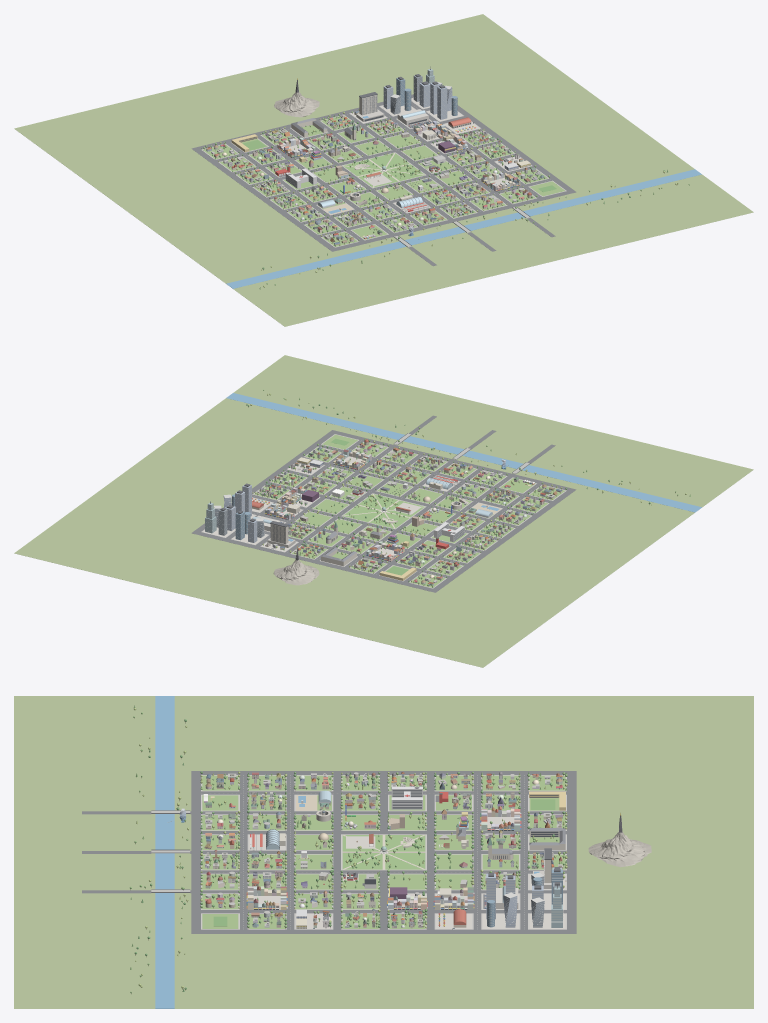
File: daemon_city.glb
The picture shows the model from 3 angles, top to bottom: view 1: azimuth 30°, elevation 25°; view 2: azimuth 150°, elevation 25°; view 3: azimuth 270°, elevation 25°; orthographic projection. The views are drawn at different scales.
Visible parts, largest first — view 1: Meadow, Blocks, Streets, Public & Commercial, River, Central Park, openings, canopy2, canopy3, canopy1, spandrel, Zarathustra Mountain; view 2: Meadow, Blocks, Streets, Public & Commercial, River, Central Park, canopy2, canopy3, canopy1, openings, Zarathustra Mountain, spandrel; view 3: Meadow, Blocks, Streets, Public & Commercial, River, Central Park, canopy2, canopy3, canopy1, openings, Zarathustra Mountain, Ground (+1 smaller).
Boxes of the visible parts, <box> form: Meadow: <box>14,14,753,326</box>; Blocks: <box>201,98,566,247</box>; Streets: <box>191,94,576,251</box>; Public & Commercial: <box>231,66,556,239</box>; River: <box>226,169,701,288</box>; Central Park: <box>341,152,426,188</box>; openings: <box>208,95,542,244</box>; canopy2: <box>201,114,667,269</box>; canopy3: <box>215,109,678,287</box>; canopy1: <box>203,111,689,289</box>; spandrel: <box>362,70,457,118</box>; Zarathustra Mountain: <box>274,92,319,117</box>; Meadow: <box>14,355,753,667</box>; Blocks: <box>201,434,566,588</box>; Streets: <box>191,430,576,592</box>; Public & Commercial: <box>205,438,534,580</box>; River: <box>226,393,701,512</box>; Central Park: <box>341,493,426,529</box>; canopy2: <box>246,403,650,587</box>; canopy3: <box>250,393,686,582</box>; canopy1: <box>263,389,690,586</box>; openings: <box>262,446,552,584</box>; Zarathustra Mountain: <box>273,560,319,585</box>; spandrel: <box>205,487,256,541</box>; Meadow: <box>14,696,753,1008</box>; Blocks: <box>201,775,566,929</box>; Streets: <box>191,771,576,933</box>; Public & Commercial: <box>203,786,565,928</box>; River: <box>155,696,174,1008</box>; Central Park: <box>341,834,426,870</box>; canopy2: <box>130,719,567,991</box>; canopy3: <box>134,708,567,988</box>; canopy1: <box>130,705,567,993</box>; openings: <box>205,774,561,928</box>; Zarathustra Mountain: <box>588,831,651,867</box>; Ground: <box>82,811,191,893</box>.
Size of the model in its own units: 1520 by 109 by 1520.
